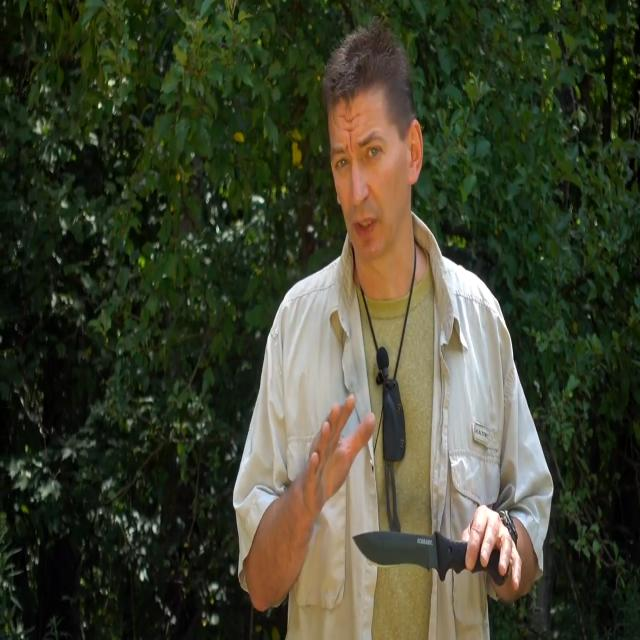knife: (354, 524, 470, 594)
